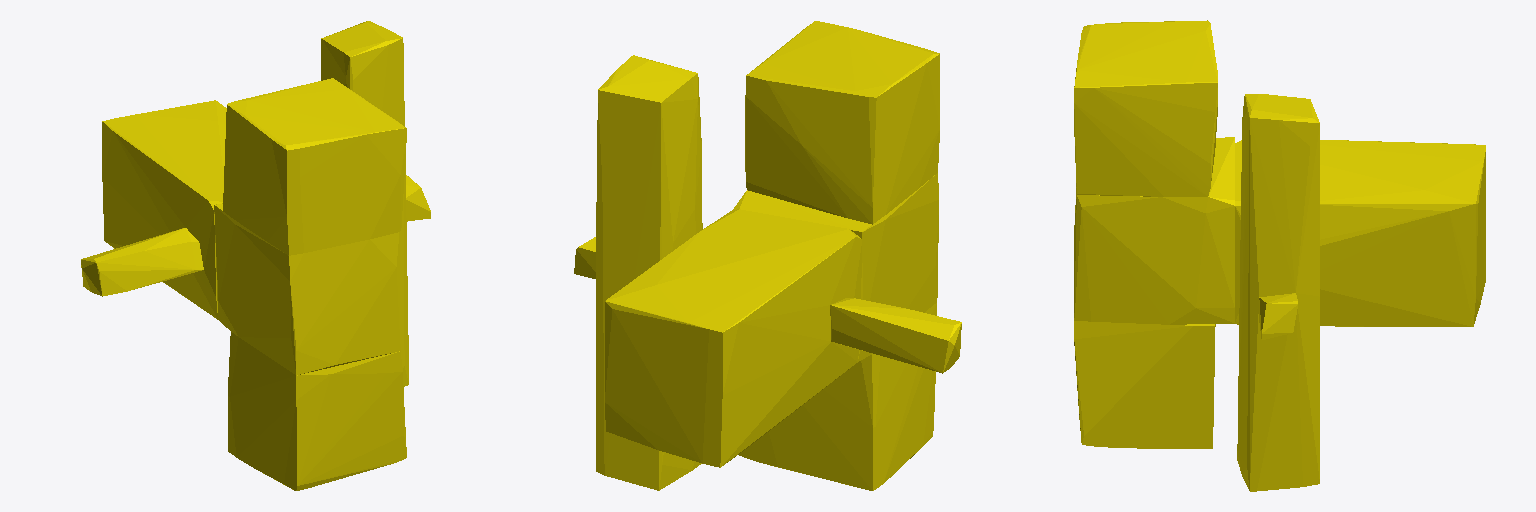
robot.urdf — blob403:
<robot name="blob403">
  <link name="random_obj_403">
    <contact>
      <lateral_friction value="1.0"/>
      <rolling_friction value="0.0"/>
      <inertia_scaling value="3.0"/>
      <contact_cfm value="0.0"/>
      <contact_erp value="1.0"/>
    </contact>
    <inertial>
      <origin rpy="0 0 0" xyz="0 0 0"/>
      <mass value="0.1"/>
      <inertia ixx="1" ixy="0" ixz="0" iyy="1" iyz="0" izz="0"/>
    </inertial>
    <visual>
      <origin rpy="0 0 0" xyz="0 0 0"/>
      <geometry>
        <mesh filename="403.obj" scale="0.015 0.015 0.015"/>
      </geometry>
      <material name="blockmat">
        <color rgba="0.92 0.86 0.04 1"/>
      </material>
    </visual>
    <collision>
      <origin rpy="0 0 0" xyz="0 0 0"/>
      <geometry>
        <mesh filename="403.obj" scale="0.015 0.015 0.015"/>
      </geometry>
    </collision>
  </link>
</robot>

--- Render facts (derived) ---
The picture shows the robot from 3 angles, left to right: view 1: azimuth 30°, elevation 25°; view 2: azimuth 150°, elevation 25°; view 3: azimuth 270°, elevation 25°; orthographic projection.
Robot: blob403 — 1 links, 0 joints (none); root link random_obj_403; default pose: all joints at 0.
Visible links, largest first — view 1: random_obj_403; view 2: random_obj_403; view 3: random_obj_403.
Link boxes in pixels (x1=…): random_obj_403: x1=81, y1=21, x2=430, y2=490; random_obj_403: x1=574, y1=21, x2=961, y2=490; random_obj_403: x1=1074, y1=20, x2=1485, y2=491.
Size in the robot's own frame: 0.0931 by 0.0926 by 0.0931 metres.
Meshes: 1 distinct files referenced, 1 mesh visuals loaded (1 OBJ).